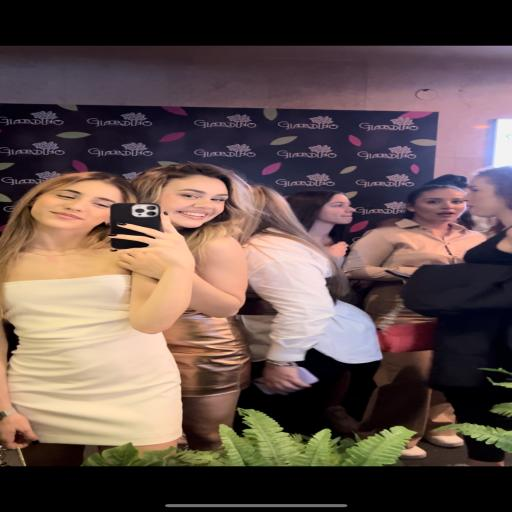masa: (32, 179, 127, 232)
